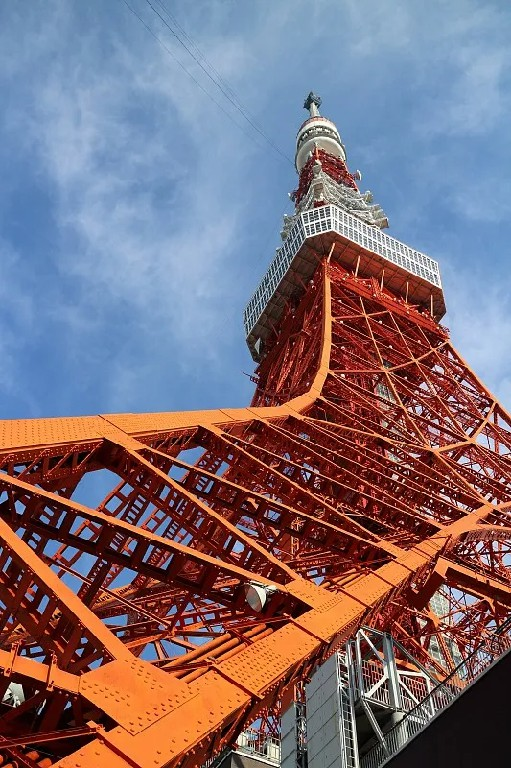Tokyo: (1, 82, 511, 766)
